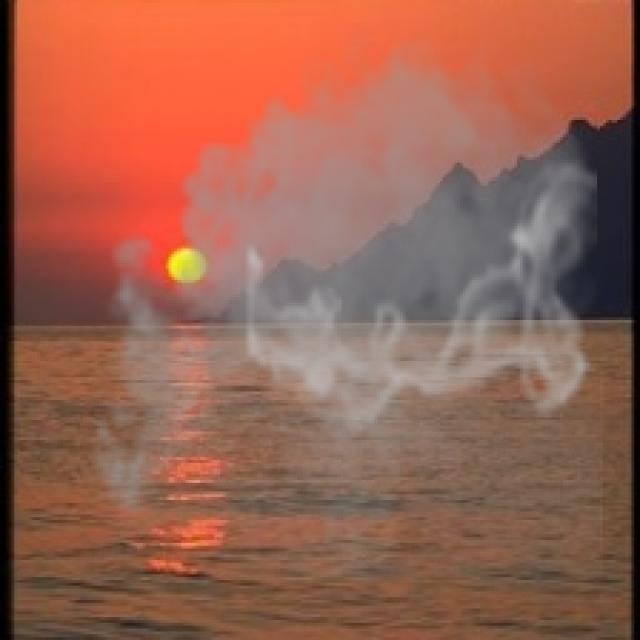smoke: (74, 17, 603, 580)
